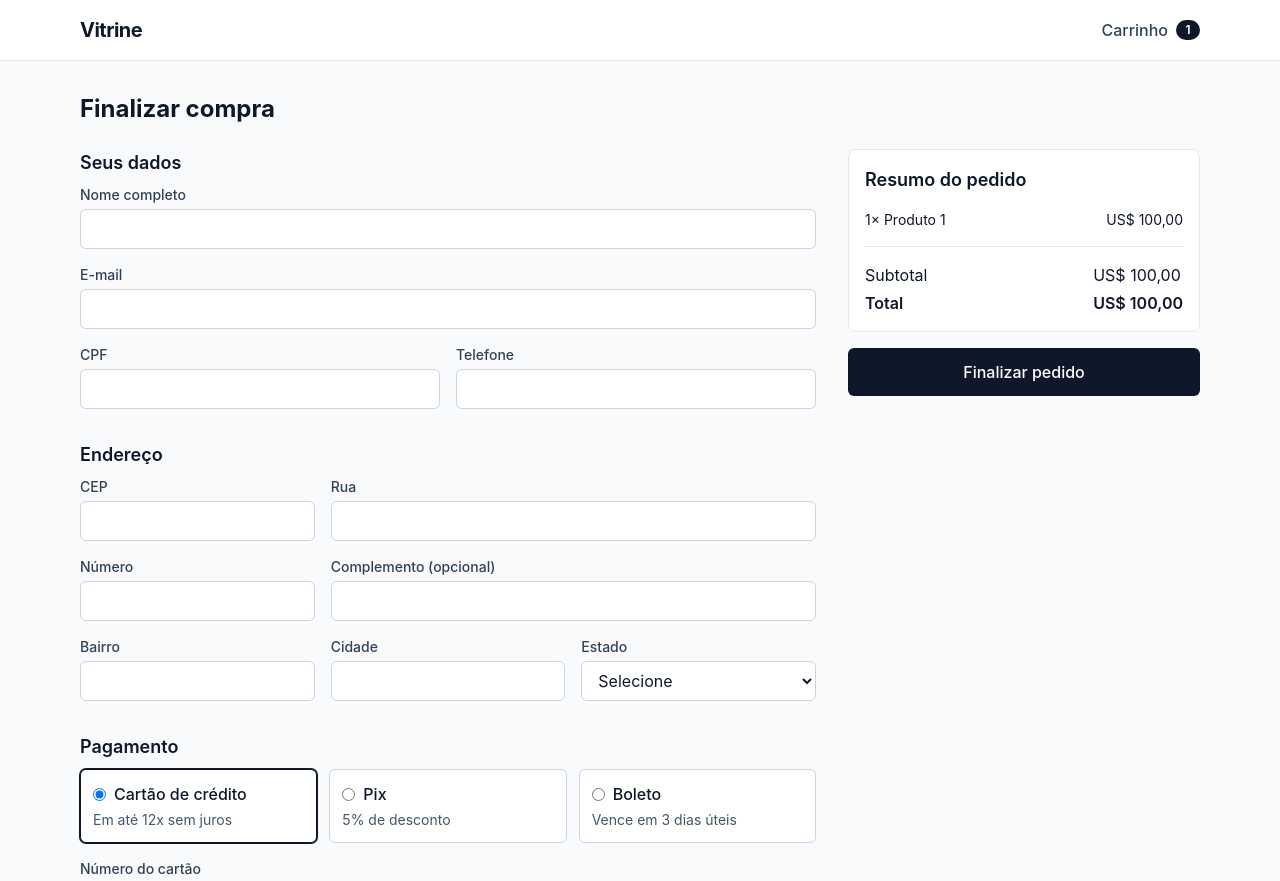
Test: CheckoutPage › enviar vazio mostra erros por campo e foca o primeiro
Expected: the heading "Finalizar compra" is shown, [80,94,275,123]
Click the button "Finalizar pedido" at x=1024, y=372, box [848,348,1200,396]
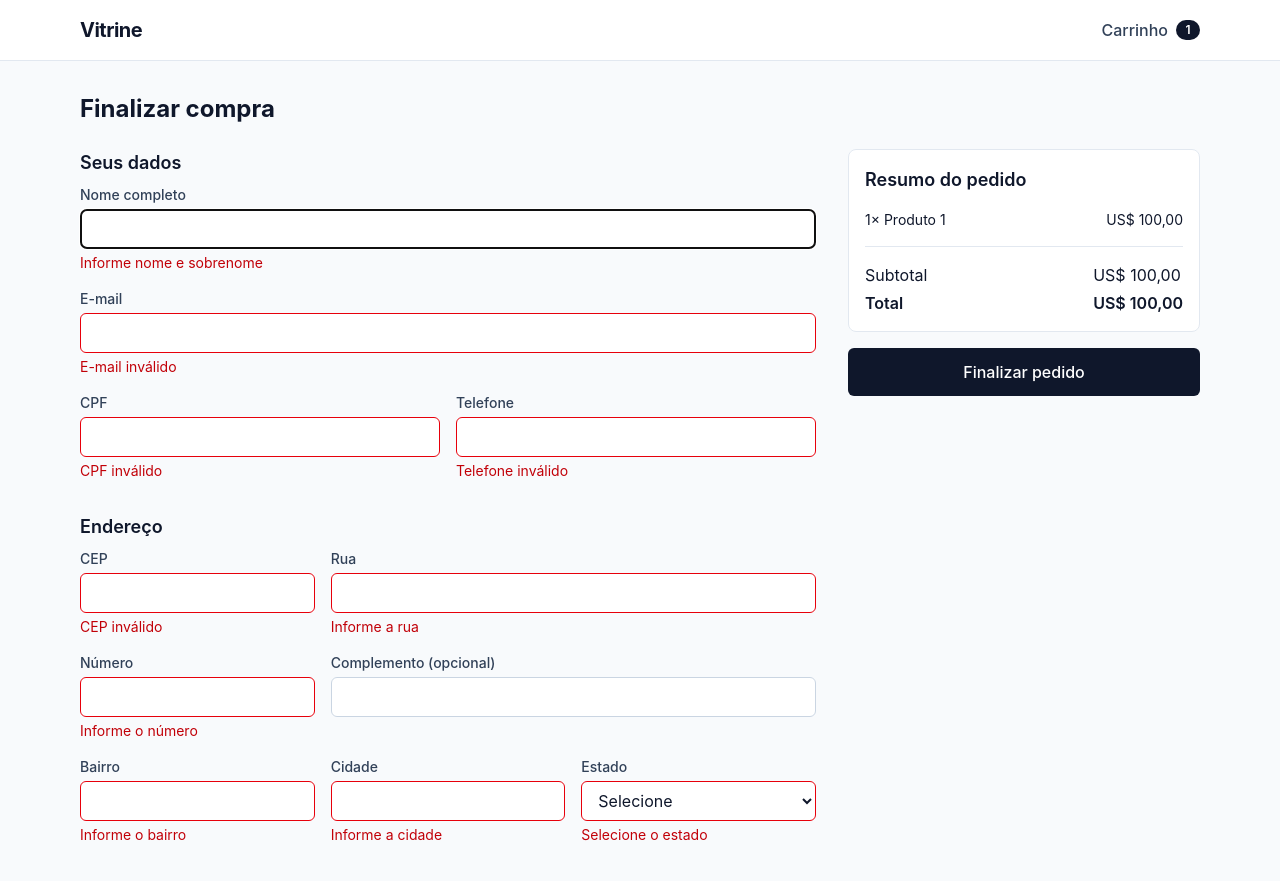
Expected: the text "Informe nome e sobrenome" is shown, [80,254,263,271]
Expected: the text "Selecione o estado" is shown, [581,826,708,843]
